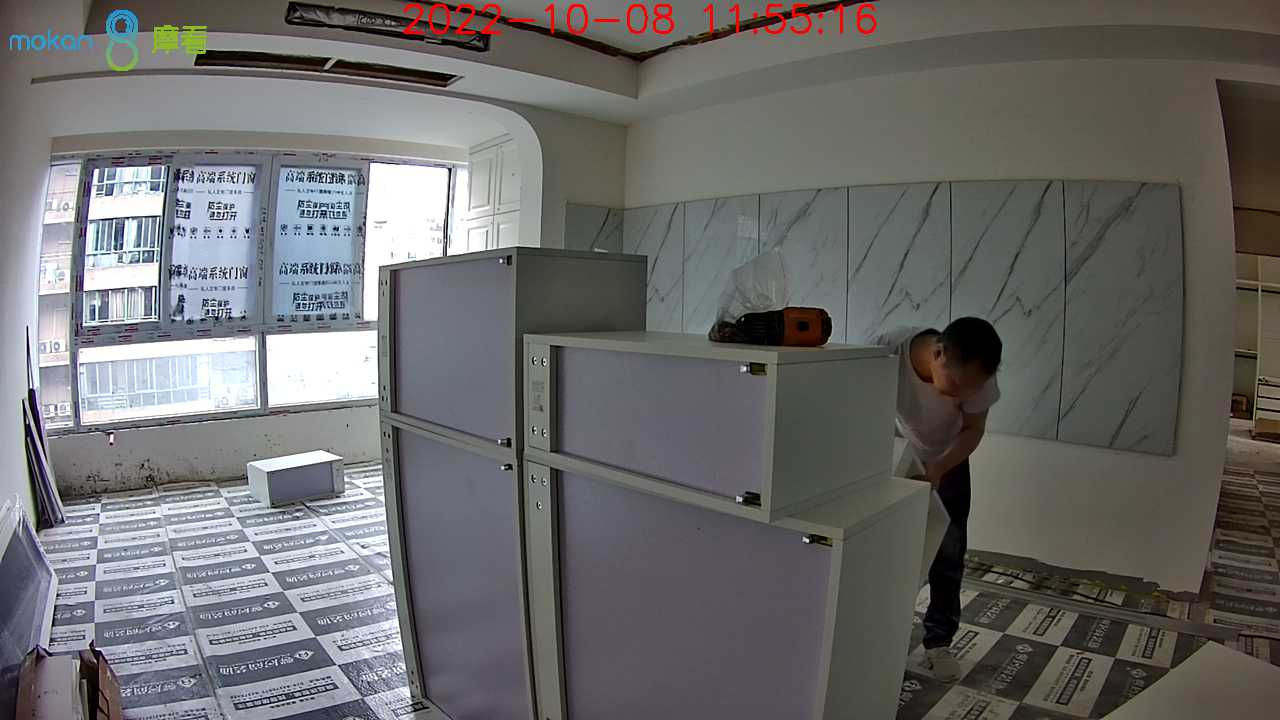people: (869, 317, 1004, 680)
window: (36, 146, 464, 433)
